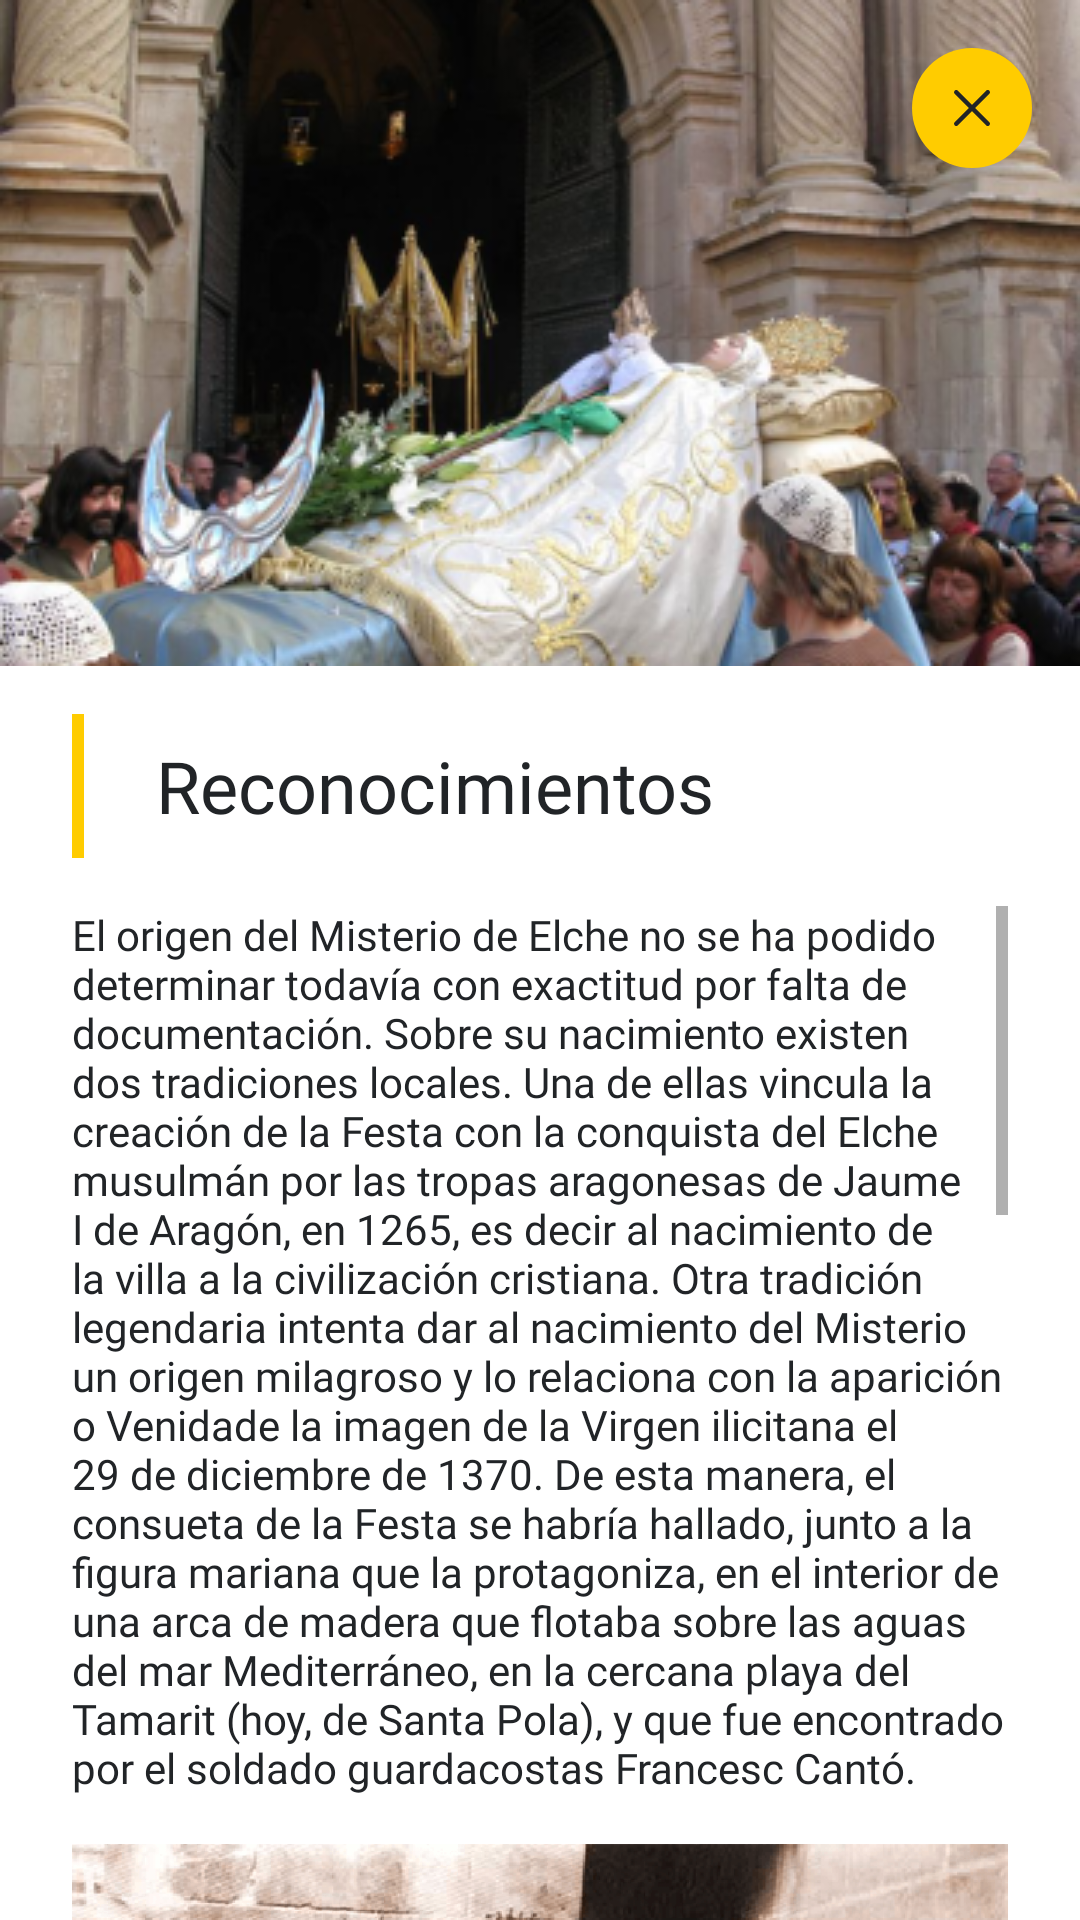

Point at icon controls on the screen. Image size 1080×1920, points as [x,y].
iconoir cancel: [972,108]
